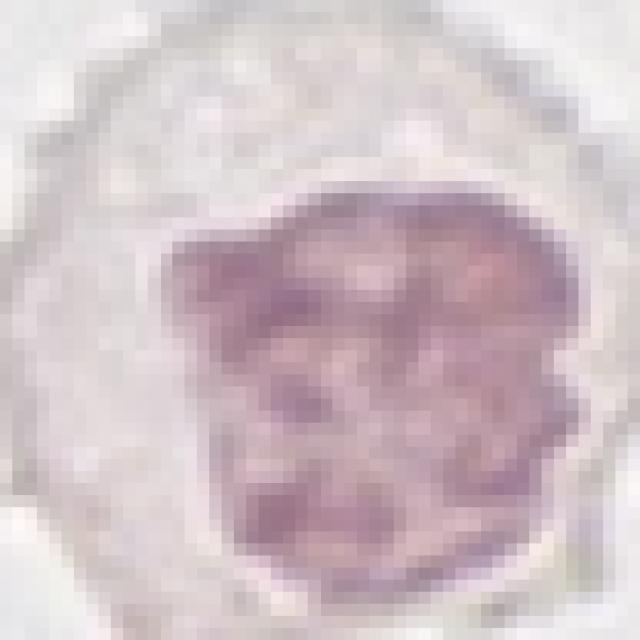cytoplasm: (0, 0, 628, 628)
nucleus: (138, 146, 639, 631)
